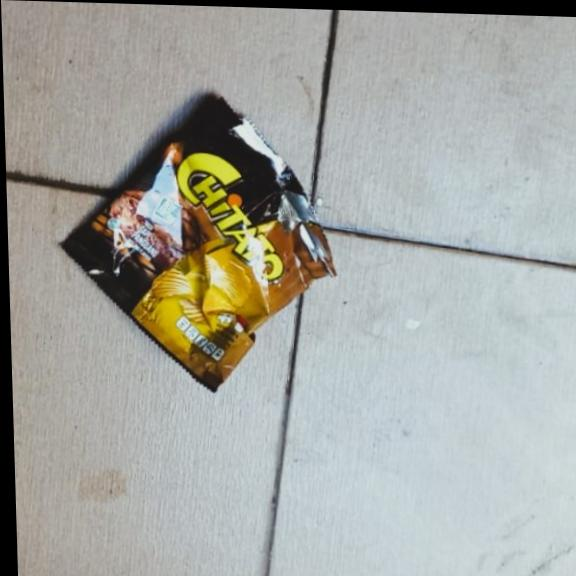Plastik: (53, 90, 339, 397)
